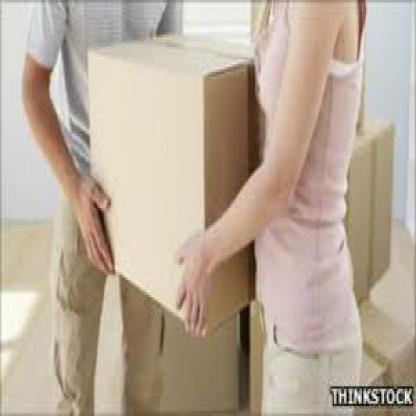box: (86, 30, 257, 360)
